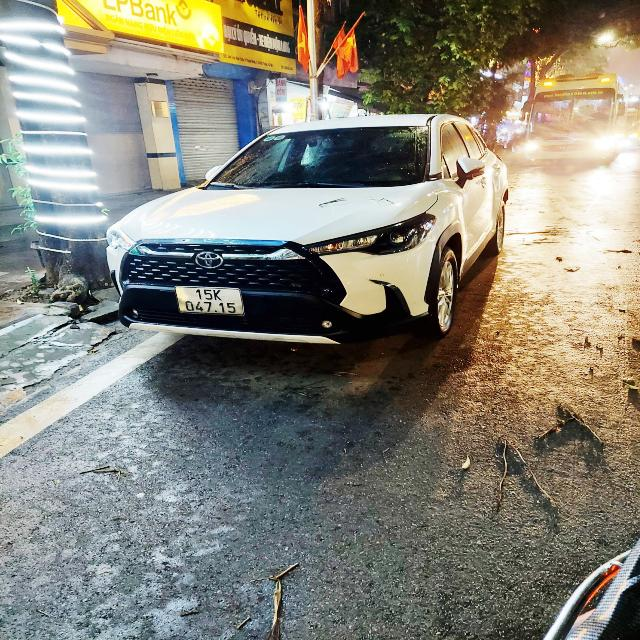license_plate: (172, 285, 249, 319)
